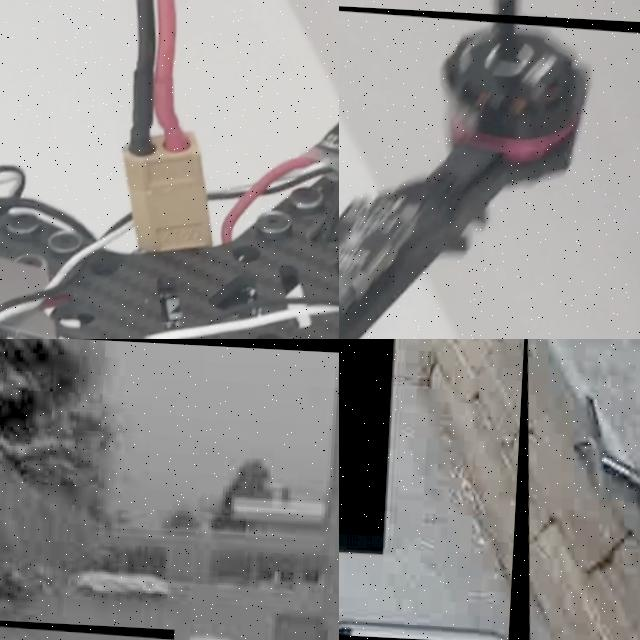drone: (0, 0, 339, 339), (339, 0, 640, 339), (508, 339, 640, 640)
